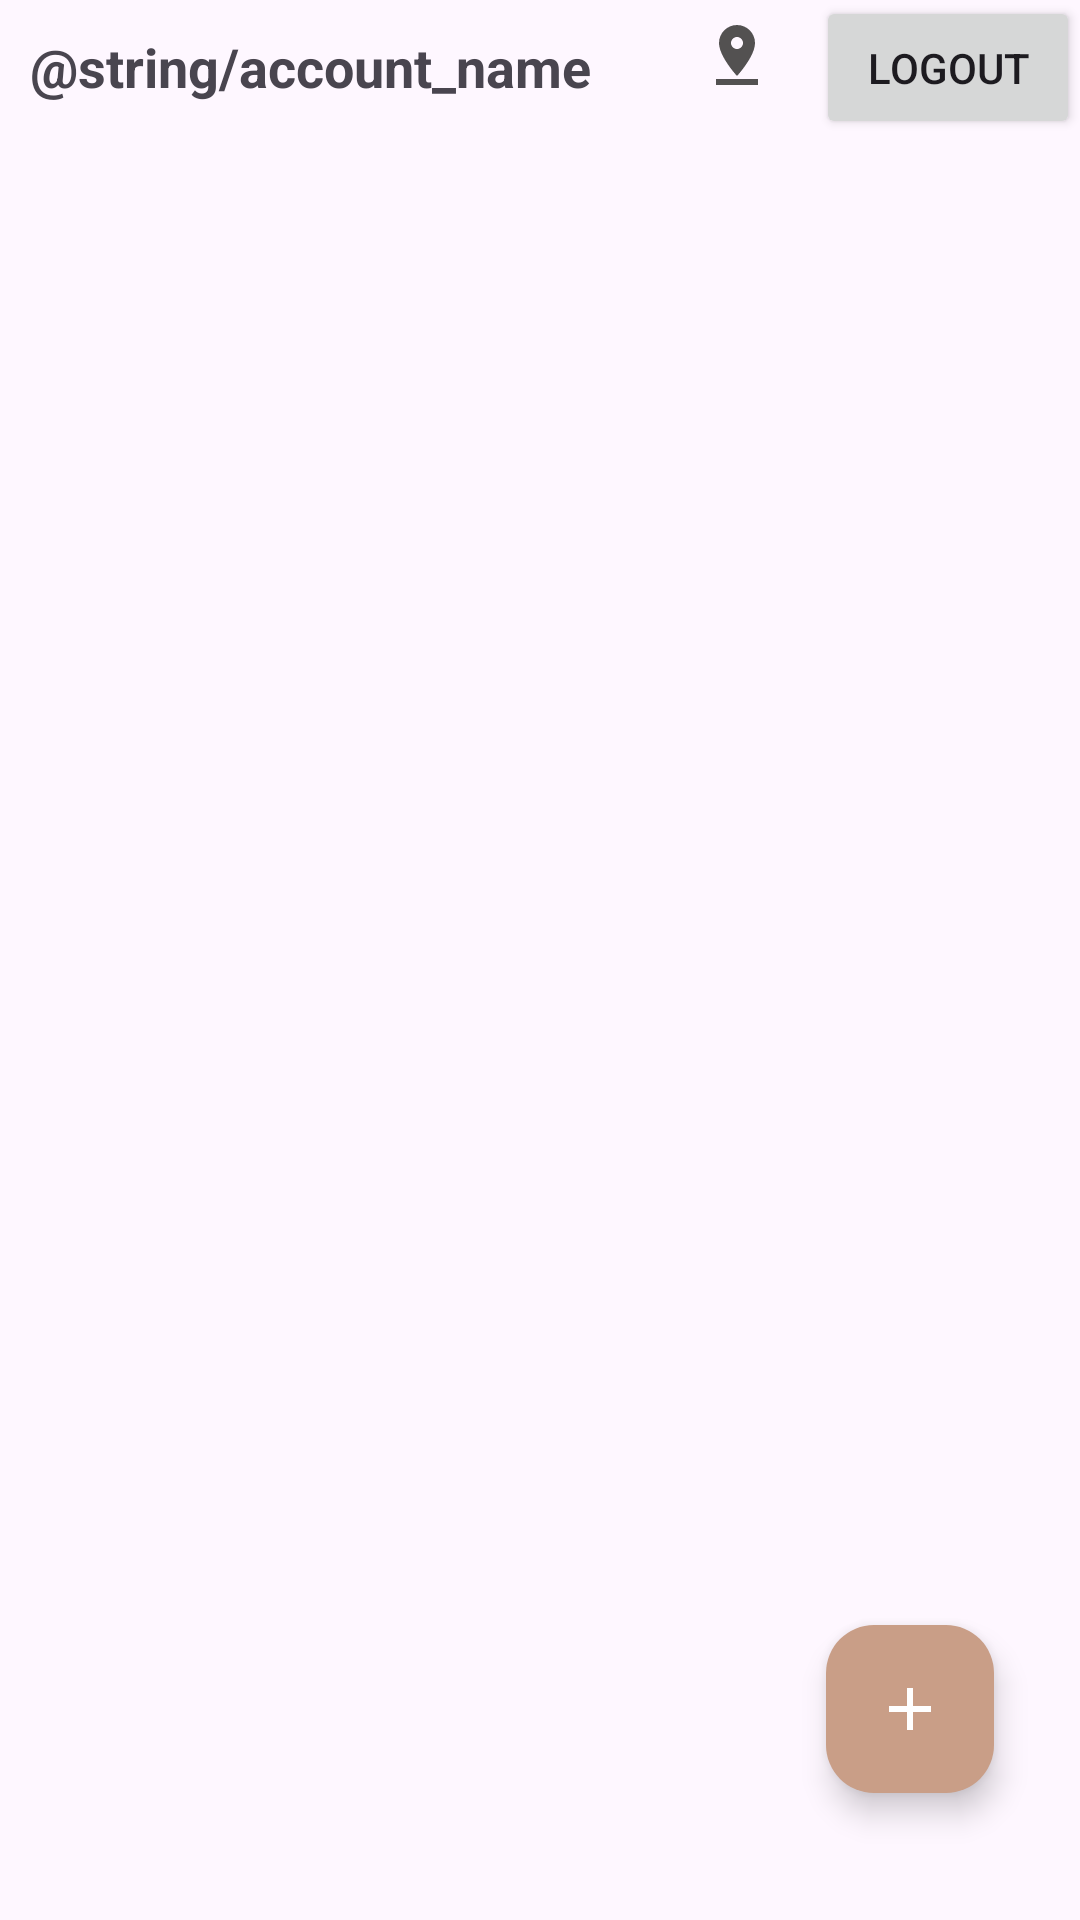

Icon click points for this 1080×1920 phone screenshot, format (x=x, y=y):
button add story: (x=910, y=1709)
pin drop: (x=737, y=55)
